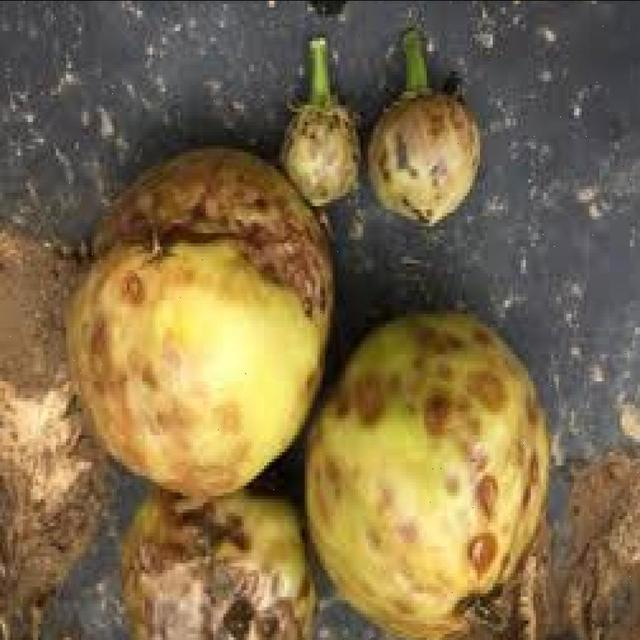Spotted wilt Virus Fruit: (164, 61, 334, 427)
